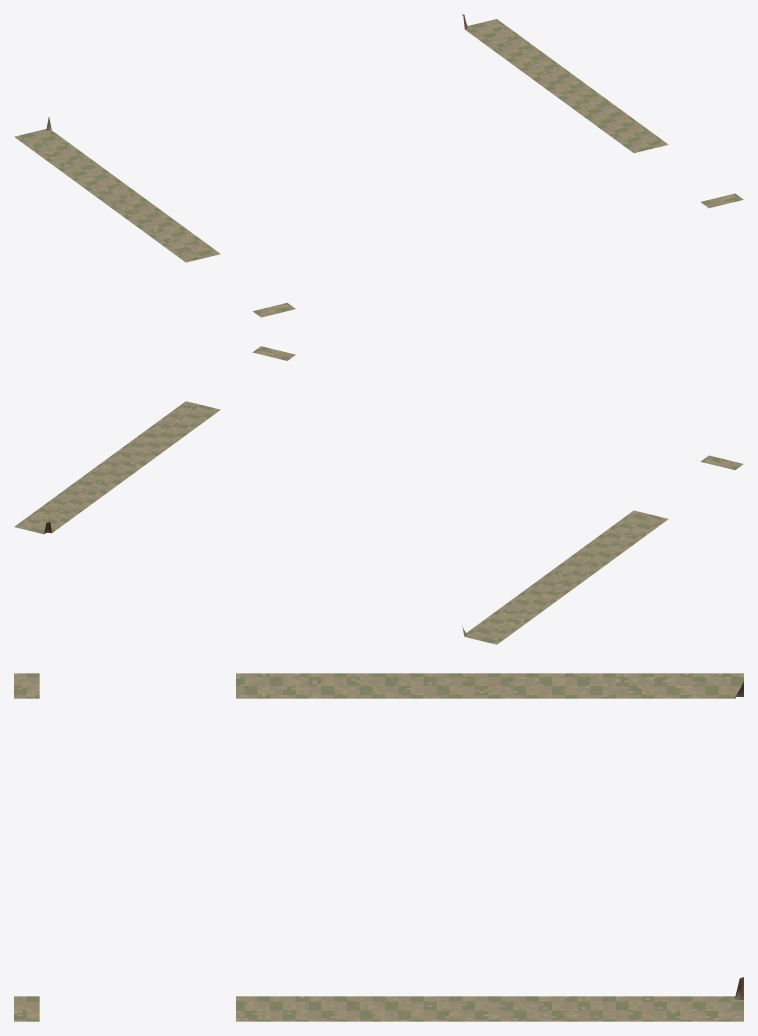
Rendered from isle_ride_apron.glb.
3 renders of one model, top to bottom at view 1: azimuth 30°, elevation 25°; view 2: azimuth 150°, elevation 25°; view 3: azimuth 270°, elevation 25°, orthographic. The views are drawn at different scales.
Parts seen in each view (by area): view 1: isle_ride_apron; view 2: isle_ride_apron; view 3: isle_ride_apron.
Boxes of the visible parts, x1,y1,x2,y2 form: isle_ride_apron: [14, 14, 743, 317]; isle_ride_apron: [14, 346, 743, 644]; isle_ride_apron: [14, 673, 743, 1021].
Size of the model in its own units: 386 by 10.04 by 342.
